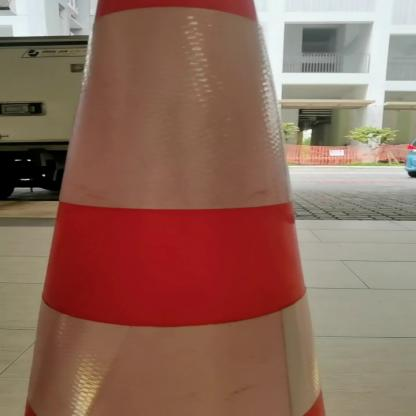cone: (2, 3, 346, 416)
